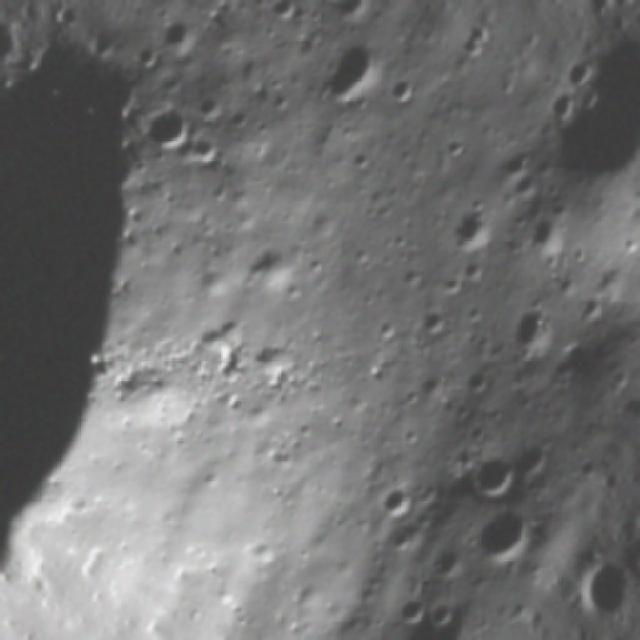crater: (527, 87, 640, 213), (311, 25, 394, 124), (461, 490, 550, 578), (498, 289, 570, 368), (439, 193, 507, 264), (238, 232, 304, 297), (378, 603, 493, 640), (138, 93, 202, 159), (460, 443, 523, 509), (148, 6, 207, 65), (365, 471, 424, 529), (520, 204, 578, 261), (509, 433, 557, 481), (183, 126, 232, 172), (382, 65, 426, 113), (188, 84, 234, 128), (421, 592, 465, 638), (388, 587, 432, 631), (543, 87, 586, 131), (458, 359, 498, 398), (450, 32, 488, 68), (268, 0, 308, 28), (298, 0, 364, 15), (637, 224, 640, 278)
